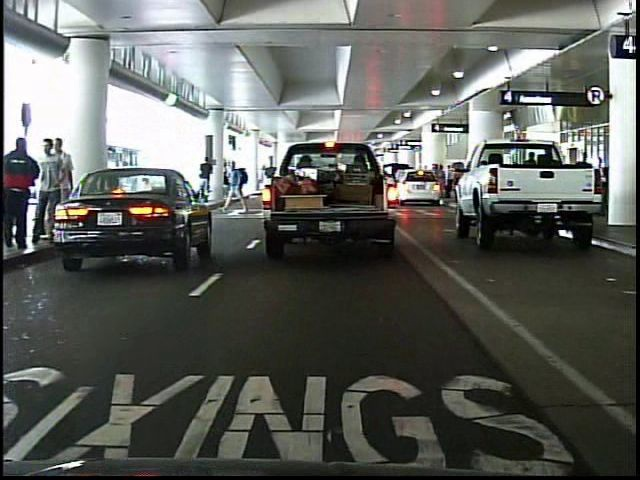person: (2, 135, 42, 255), (55, 134, 80, 240), (37, 135, 61, 240), (225, 154, 248, 212)
